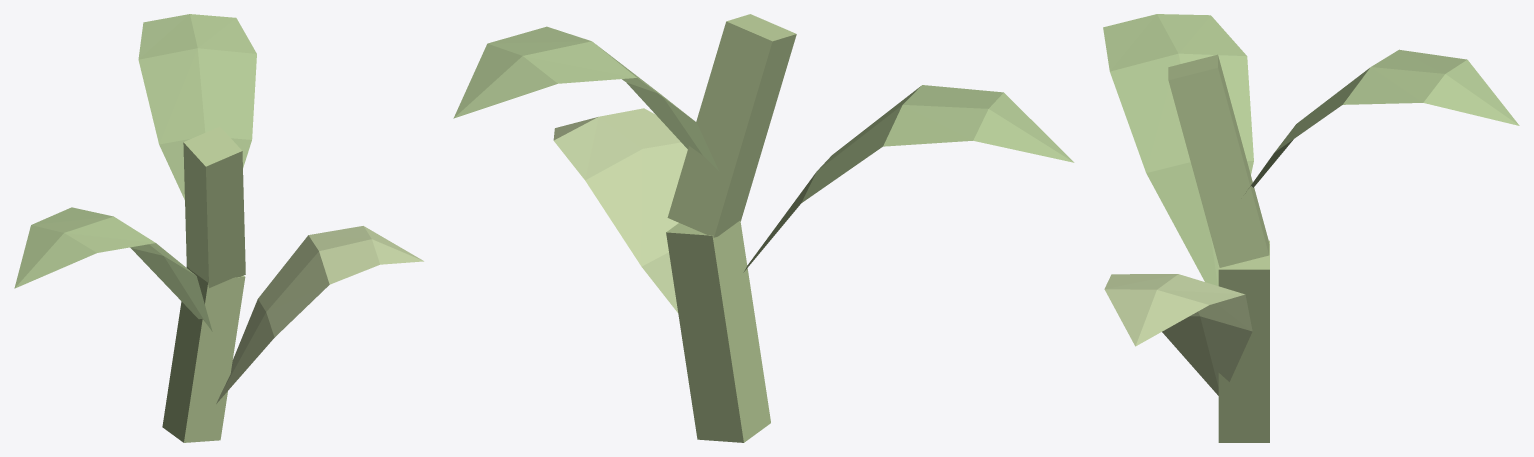
File: crafted-crop-corn-0.glb
3 views of the same model, side by side, from view 1: azimuth 30°, elevation 25°; view 2: azimuth 150°, elevation 25°; view 3: azimuth 270°, elevation 25° (orthographic). The views are drawn at different scales.
Parts seen in each view (by area): view 1: corn-leaf-2, stalk-0, corn-leaf-0, stalk-1, corn-leaf-1; view 2: stalk-0, stalk-1, corn-leaf-0, corn-leaf-1, corn-leaf-2; view 3: corn-leaf-1, stalk-1, corn-leaf-0, corn-leaf-2, stalk-0.
Boxes of the visible parts, x1,y1,x2,y2 form: corn-leaf-2: [138, 14, 256, 199]; stalk-0: [162, 266, 245, 442]; corn-leaf-0: [216, 226, 423, 403]; stalk-1: [183, 126, 245, 288]; corn-leaf-1: [14, 207, 212, 331]; stalk-0: [666, 220, 770, 442]; stalk-1: [667, 14, 796, 237]; corn-leaf-0: [553, 108, 687, 312]; corn-leaf-1: [743, 85, 1074, 272]; corn-leaf-2: [453, 26, 719, 171]; corn-leaf-1: [1103, 14, 1253, 285]; stalk-1: [1168, 54, 1269, 267]; corn-leaf-0: [1104, 274, 1252, 395]; corn-leaf-2: [1245, 49, 1519, 193]; stalk-0: [1218, 240, 1269, 442].
Size of the model in its own units: 0.1984 by 0.1576 by 0.1465.
